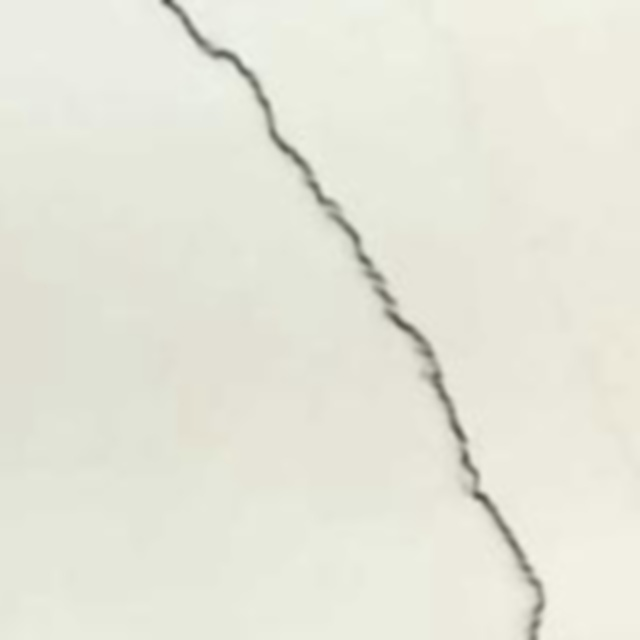SurfaceCrack: (132, 0, 566, 640)
